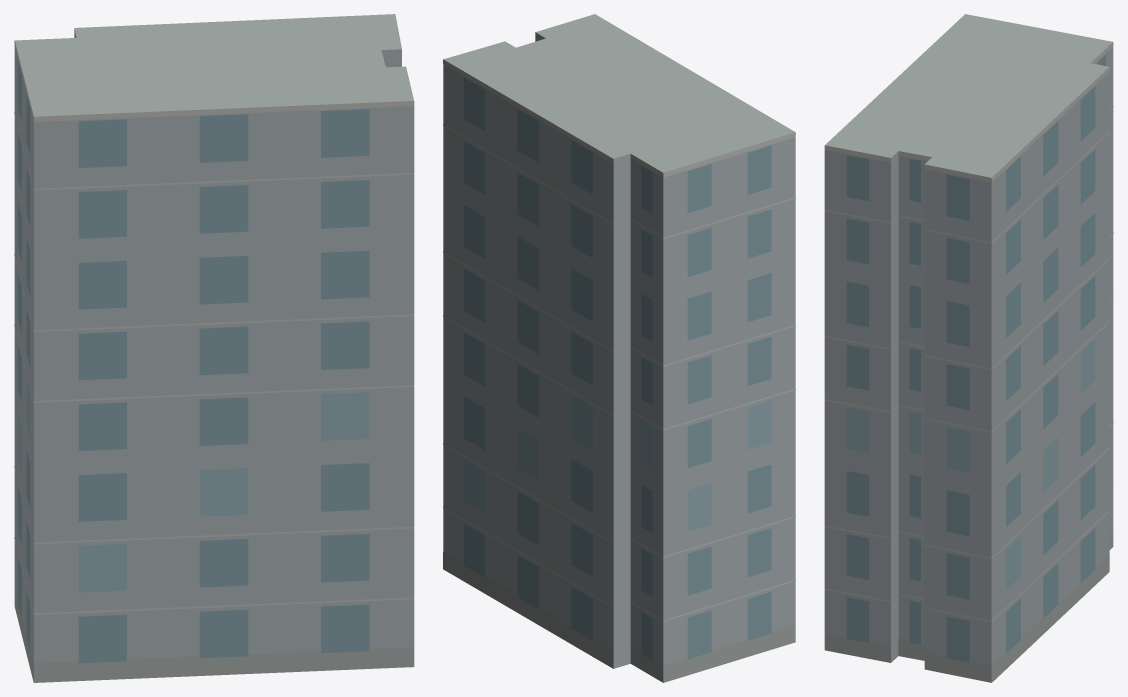
File: survey-upis-32531663.glb
3 views of the same model, side by side, from view 1: azimuth 30°, elevation 25°; view 2: azimuth 150°, elevation 25°; view 3: azimuth 270°, elevation 25° (orthographic). The views are drawn at different scales.
Visible parts, largest first — view 1: survey-upis-32531663.tmp; view 2: survey-upis-32531663.tmp; view 3: survey-upis-32531663.tmp.
Part boxes in pixels (left/top/right/bottom): survey-upis-32531663.tmp: left=14, top=14, right=414, bottom=682; survey-upis-32531663.tmp: left=443, top=14, right=795, bottom=682; survey-upis-32531663.tmp: left=824, top=14, right=1113, bottom=682.
Size of the model in its own units: 18.22 by 26.15 by 13.57.
